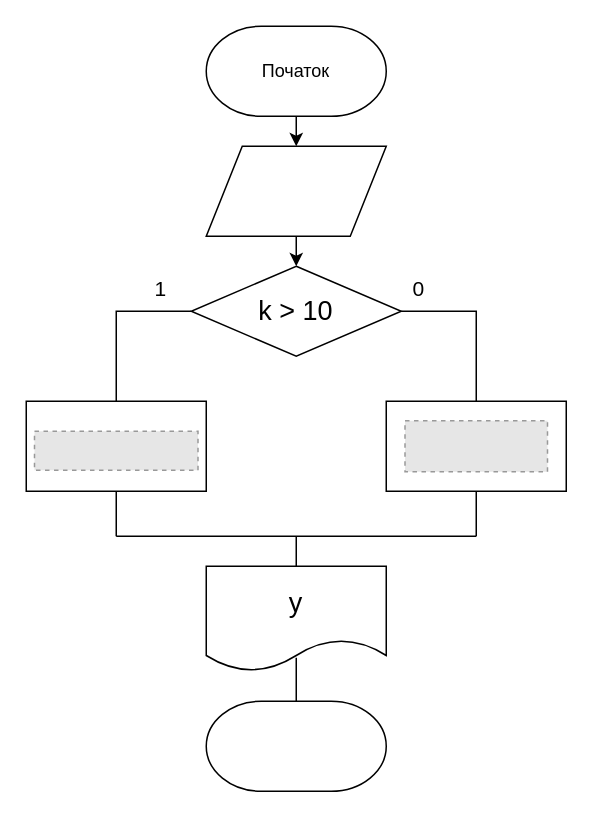
Some shapes in this 593 by 818 pixel diagram are drawn without their labels. Grey dashed boxes stand in for pictures. Here are the shapes that lost their labels. From the top down, the box of each, then its label:
(205, 145, 386, 236): k, d
(205, 700, 386, 791): Кінець
